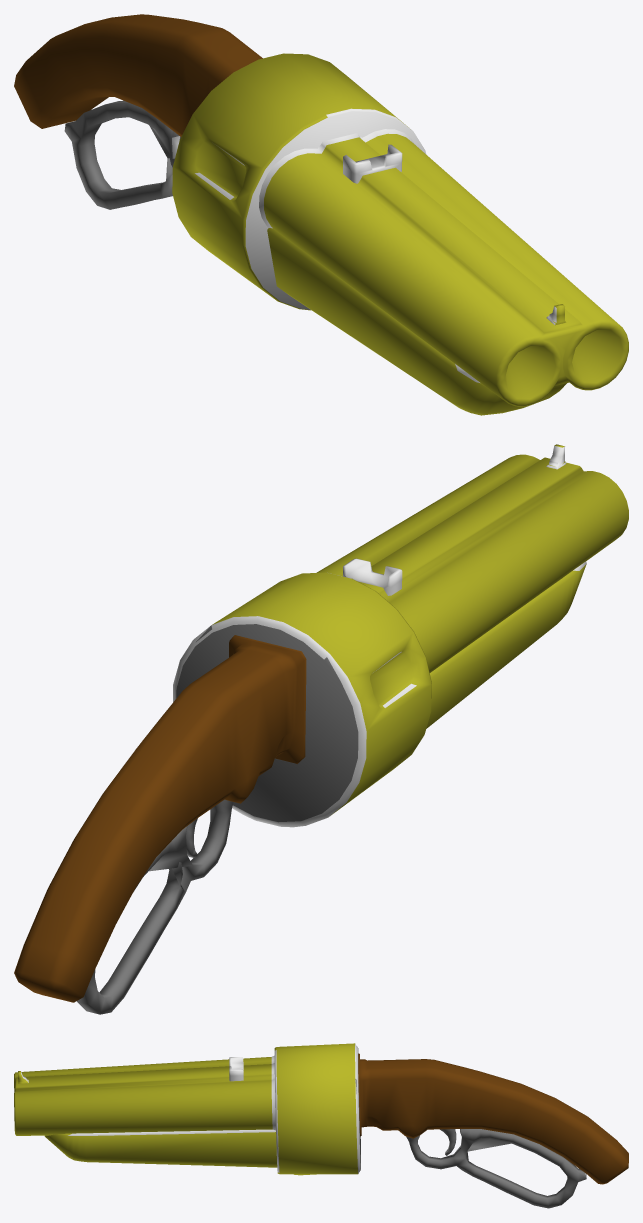
The model's file is scattergun.fbx.
The picture shows the model from 3 angles, top to bottom: view 1: azimuth 30°, elevation 25°; view 2: azimuth 150°, elevation 25°; view 3: azimuth 270°, elevation 25°; orthographic projection. The views are drawn at different scales.
Parts seen in each view (by area): view 1: w_scattergun_reference.dmx; view 2: w_scattergun_reference.dmx; view 3: w_scattergun_reference.dmx.
Boxes of the visible parts, box(x1,y1,x2,y2) form: w_scattergun_reference.dmx: box(14, 14, 628, 415); w_scattergun_reference.dmx: box(14, 444, 628, 1014); w_scattergun_reference.dmx: box(14, 1043, 628, 1208).
Size of the model in its own units: 628 by 836 by 2974.
